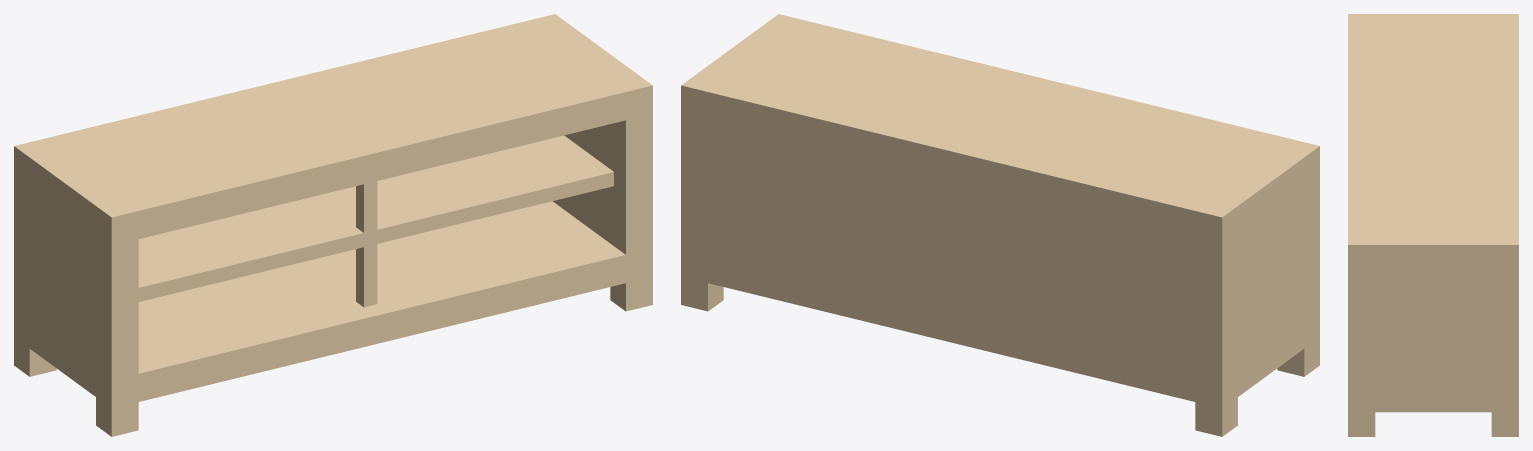
The model's file is cabinetTelevision.glb.
3 views of the same model, side by side, from view 1: azimuth 30°, elevation 25°; view 2: azimuth 150°, elevation 25°; view 3: azimuth 270°, elevation 25° (orthographic). The views are drawn at different scales.
Parts seen in each view (by area): view 1: cabinetTelevision(Clone); view 2: cabinetTelevision(Clone); view 3: cabinetTelevision(Clone).
Part boxes in pixels (x1=…): cabinetTelevision(Clone): x1=14, y1=14, x2=652, y2=436; cabinetTelevision(Clone): x1=681, y1=14, x2=1319, y2=436; cabinetTelevision(Clone): x1=1348, y1=14, x2=1518, y2=436.
Size of the model in its own units: 0.8 by 0.31 by 0.25.
